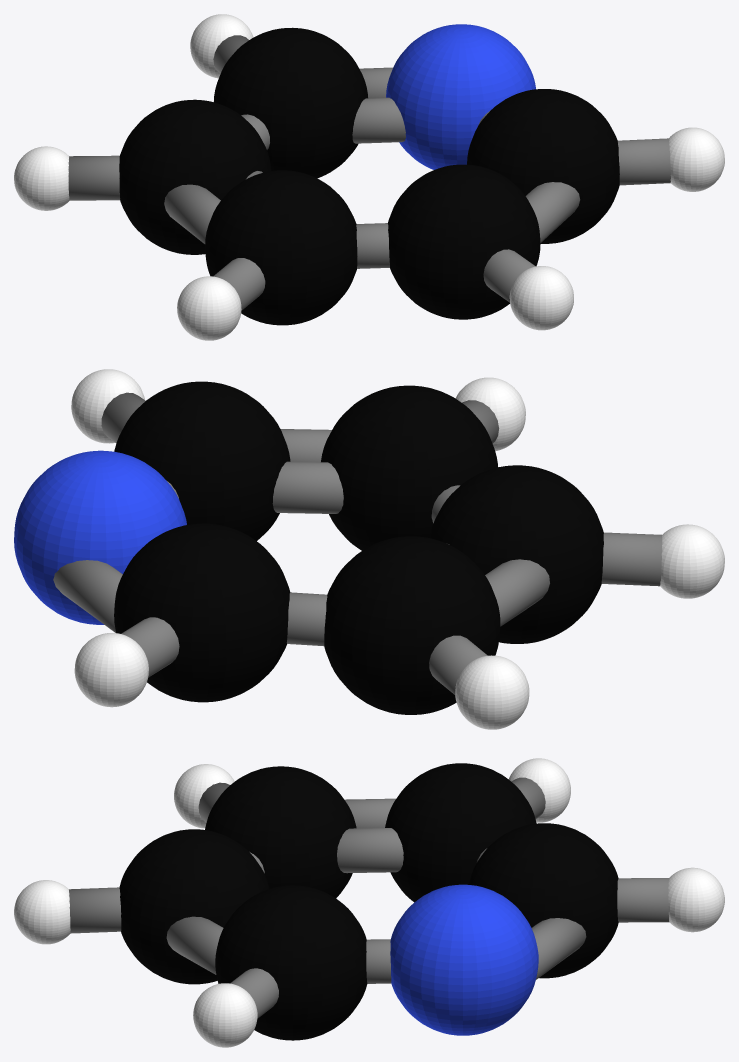
Rendered from PIRIDINA.obj.
3 renders of one model, top to bottom at view 1: azimuth 30°, elevation 25°; view 2: azimuth 150°, elevation 25°; view 3: azimuth 270°, elevation 25°, orthographic. The views are drawn at different scales.
Visible parts, largest first — view 1: Carbon_ball_Sphere, Hydrogen_ball_Sphere.001, Nitrogen_ball_Sphere.002, Stick_Cylinder.007_Cylinder.007, Stick_Cylinder_Cylinder, Stick_Cylinder.010_Cylinder.010, Stick_Cylinder.001_Cylinder.001, Stick_Cylinder.012_Cylinder.012, Stick_Cylinder.004_Cylinder.004, Stick_Cylinder.005_Cylinder.005, Stick_Cylinder.003_Cylinder.003, Stick_Cylinder.011_Cylinder.011 (+1 smaller); view 2: Carbon_ball_Sphere, Hydrogen_ball_Sphere.001, Nitrogen_ball_Sphere.002, Stick_Cylinder.006_Cylinder.006, Stick_Cylinder.003_Cylinder.003, Stick_Cylinder.011_Cylinder.011, Stick_Cylinder.001_Cylinder.001, Stick_Cylinder.002_Cylinder.002, Stick_Cylinder.009_Cylinder.009, Stick_Cylinder_Cylinder, Stick_Cylinder.012_Cylinder.012, Stick_Cylinder.007_Cylinder.007 (+1 smaller); view 3: Carbon_ball_Sphere, Nitrogen_ball_Sphere.002, Hydrogen_ball_Sphere.001, Stick_Cylinder.013_Cylinder.013, Stick_Cylinder.009_Cylinder.009, Stick_Cylinder.005_Cylinder.005, Stick_Cylinder.012_Cylinder.012, Stick_Cylinder.011_Cylinder.011, Stick_Cylinder.007_Cylinder.007, Stick_Cylinder.001_Cylinder.001, Stick_Cylinder.008_Cylinder.008, Stick_Cylinder_Cylinder (+1 smaller).
Part boxes in pixels (<box>): Carbon_ball_Sphere: <box>119,27,619,325</box>; Hydrogen_ball_Sphere.001: <box>14,14,724,340</box>; Nitrogen_ball_Sphere.002: <box>386,24,535,169</box>; Stick_Cylinder.007_Cylinder.007: <box>617,138,670,185</box>; Stick_Cylinder_Cylinder: <box>68,155,120,200</box>; Stick_Cylinder.010_Cylinder.010: <box>352,97,405,143</box>; Stick_Cylinder.001_Cylinder.001: <box>164,184,220,243</box>; Stick_Cylinder.012_Cylinder.012: <box>525,182,580,242</box>; Stick_Cylinder.004_Cylinder.004: <box>356,223,389,268</box>; Stick_Cylinder.005_Cylinder.005: <box>483,249,535,302</box>; Stick_Cylinder.003_Cylinder.003: <box>213,258,265,310</box>; Stick_Cylinder.011_Cylinder.011: <box>359,67,392,98</box>; Carbon_ball_Sphere: <box>114,381,603,714</box>; Hydrogen_ball_Sphere.001: <box>71,369,724,729</box>; Nitrogen_ball_Sphere.002: <box>14,450,186,624</box>; Stick_Cylinder.006_Cylinder.006: <box>272,461,343,513</box>; Stick_Cylinder.003_Cylinder.003: <box>601,532,662,586</box>; Stick_Cylinder.011_Cylinder.011: <box>53,560,122,632</box>; Stick_Cylinder.001_Cylinder.001: <box>485,559,549,626</box>; Stick_Cylinder.002_Cylinder.002: <box>286,592,327,646</box>; Stick_Cylinder.009_Cylinder.009: <box>121,617,179,677</box>; Stick_Cylinder_Cylinder: <box>429,635,487,694</box>; Stick_Cylinder.012_Cylinder.012: <box>280,429,331,462</box>; Stick_Cylinder.007_Cylinder.007: <box>101,392,145,442</box>; Carbon_ball_Sphere: <box>119,763,618,1040</box>; Nitrogen_ball_Sphere.002: <box>390,884,538,1035</box>; Hydrogen_ball_Sphere.001: <box>14,758,724,1047</box>; Stick_Cylinder.013_Cylinder.013: <box>337,828,403,873</box>; Stick_Cylinder.009_Cylinder.009: <box>617,878,669,922</box>; Stick_Cylinder.005_Cylinder.005: <box>69,887,121,933</box>; Stick_Cylinder.012_Cylinder.012: <box>166,916,223,974</box>; Stick_Cylinder.011_Cylinder.011: <box>531,918,586,979</box>; Stick_Cylinder.007_Cylinder.007: <box>230,968,278,1018</box>; Stick_Cylinder.001_Cylinder.001: <box>344,798,395,828</box>; Stick_Cylinder.008_Cylinder.008: <box>366,939,391,983</box>; Stick_Cylinder_Cylinder: <box>511,777,545,818</box>.
Size of the model in its own units: 5.66 by 1.52 by 6.34.
